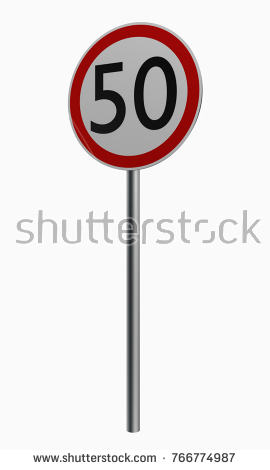Speed_limit_50km: (67, 22, 203, 170)
